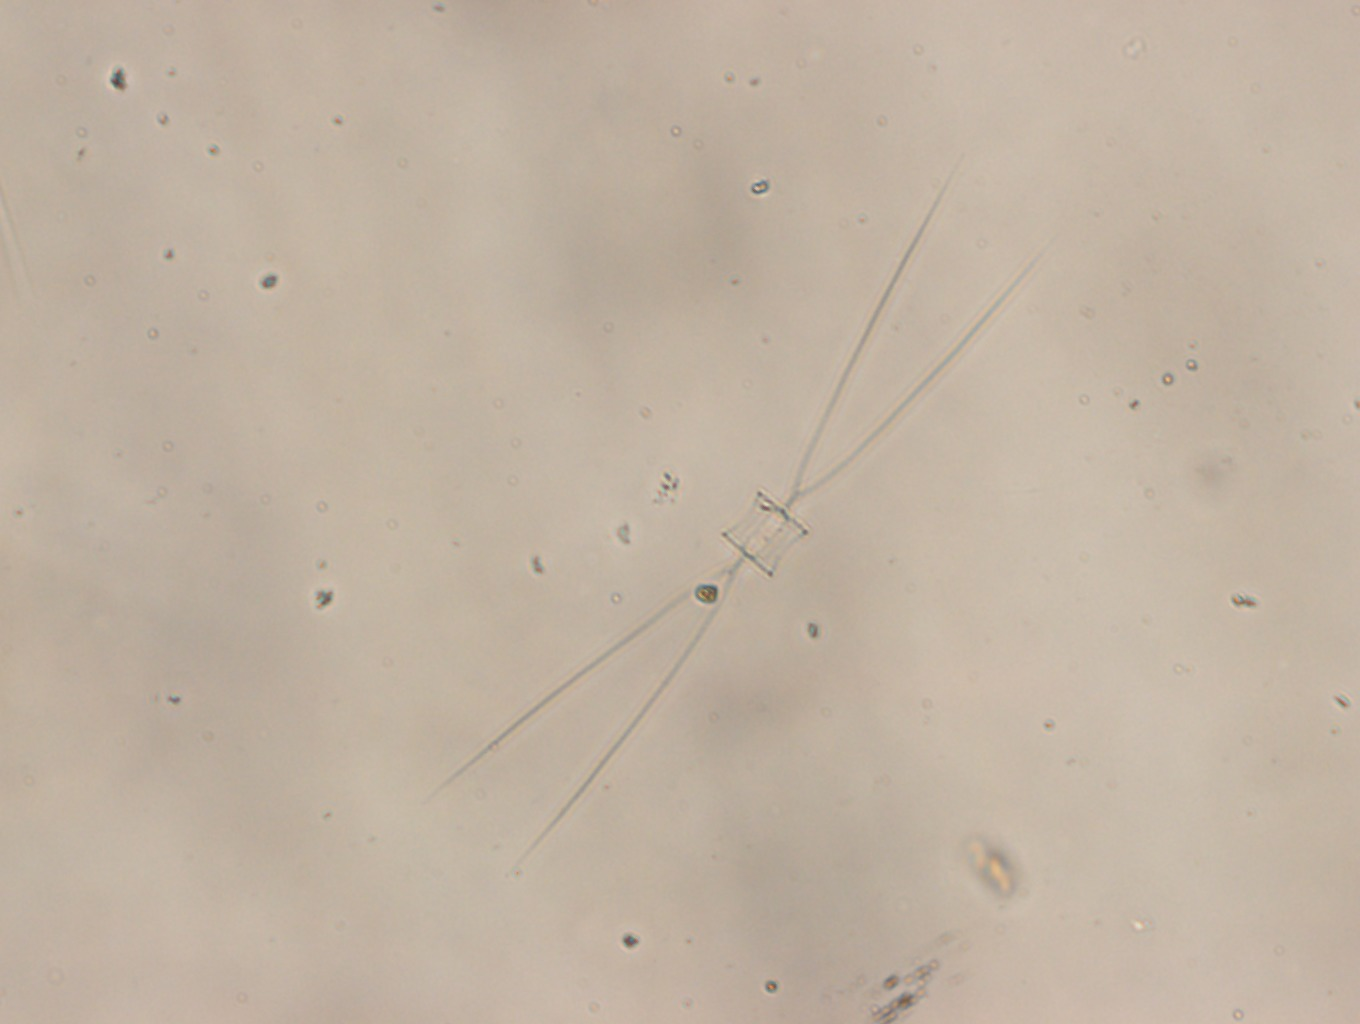chaetoceros: (439, 155, 1037, 865)
